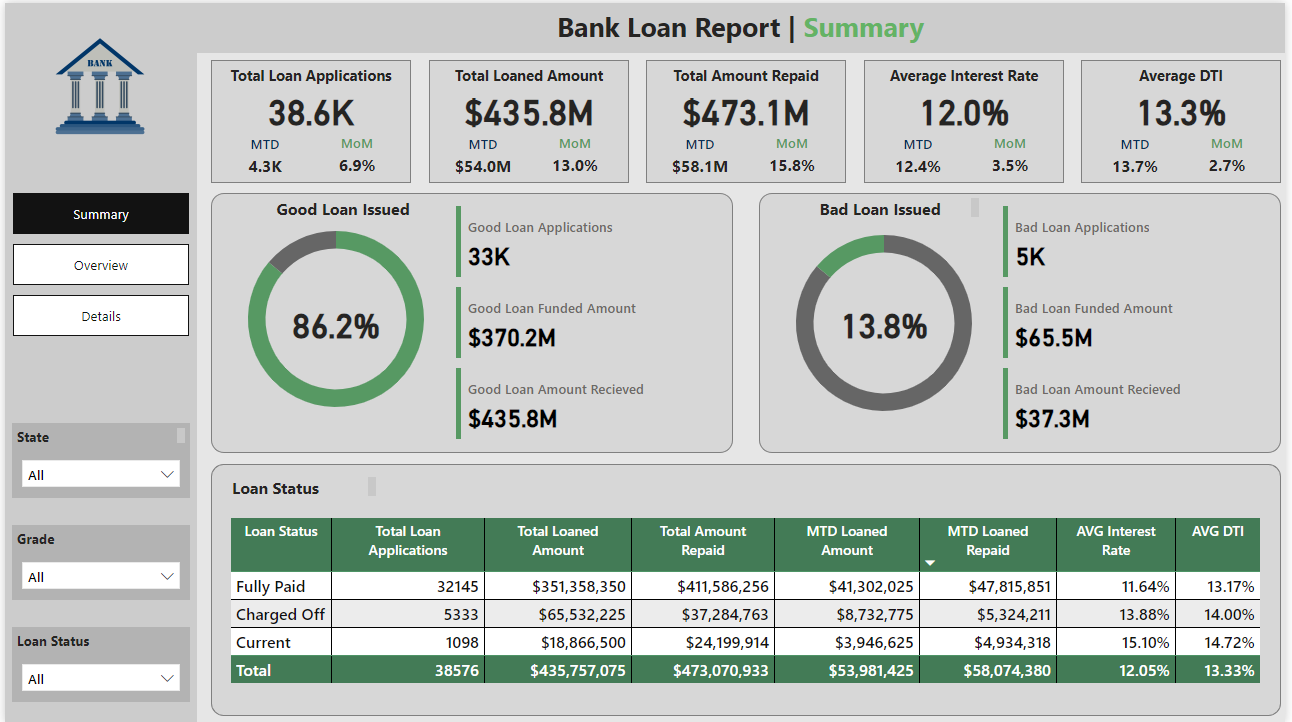

The page's visual inventory and layout, read from the dashboard file:
{"tool":"powerbi","page":{"name":"Summary","canvas":[1280,720],"ordinal":0},"visuals":[{"type":"shape","box":[0,50,192,670],"z":0},{"type":"shape","box":[206,57,200,123],"z":0,"group":"g1"},{"type":"shape","box":[423.5,57,200,123],"z":0,"group":"g2"},{"type":"shape","box":[641,57,200,123],"z":0,"group":"g4"},{"type":"shape","box":[858.5,57,200,123],"z":0,"group":"g3"},{"type":"shape","box":[1076,57,200,123],"z":0,"group":"g5"},{"type":"card","fields":{"Values":["bank_loan_data.Total Loan Applications"]},"box":[220,83,172,48],"z":1000,"group":"g1"},{"type":"card","fields":{"Values":["bank_loan_data.Total Loaned Amount"]},"box":[437.5,83,172,48],"z":1000,"group":"g2"},{"type":"card","fields":{"Values":["bank_loan_data.Total Amount Repaid"]},"box":[655,83,172,48],"z":1000,"group":"g4"},{"type":"card","fields":{"Values":["bank_loan_data.AVG Interest Rate"]},"box":[872.5,83,172,48],"z":1000,"group":"g3"},{"type":"card","fields":{"Values":["bank_loan_data.Average DTI"]},"box":[1090,83,172,48],"z":1000,"group":"g5"},{"type":"shape","box":[206,190,522,260],"z":1000},{"type":"shape","box":[0,0,1280,50],"z":2000},{"type":"textbox","box":[206,57,200,37],"z":2000,"group":"g1"},{"type":"textbox","box":[423.5,57,200,37],"z":2000,"group":"g2"},{"type":"textbox","box":[641,57,200,37],"z":2000,"group":"g4"},{"type":"textbox","box":[858.5,57,200,37],"z":2000,"group":"g3"},{"type":"textbox","box":[1076,57,200,37],"z":2000,"group":"g5"},{"type":"card","title":"MTD","fields":{"Values":["bank_loan_data.MTD Loan Applications"]},"box":[220,132,80,48],"z":3000,"group":"g1"},{"type":"card","title":"MTD","fields":{"Values":["bank_loan_data.MTD Loaned Amount"]},"box":[437.5,132,80,48],"z":3000,"group":"g2"},{"type":"card","title":"MTD","fields":{"Values":["bank_loan_data.MTD Loaned Repaid"]},"box":[655,132,80,48],"z":3000,"group":"g4"},{"type":"card","title":"MTD","fields":{"Values":["bank_loan_data.MTD AVG Interest Rate"]},"box":[872.5,132,80,48],"z":3000,"group":"g3"},{"type":"card","title":"MTD","fields":{"Values":["bank_loan_data.MTD AVG DTI"]},"box":[1090,132,80,48],"z":3000,"group":"g5"},{"type":"textbox","box":[238.3,189.7,199.4,37.9],"z":3000},{"type":"card","title":"MoM","fields":{"Values":["bank_loan_data.MoM Loan Application"]},"box":[312,131,80,48],"z":4000,"group":"g1"},{"type":"card","title":"MoM","fields":{"Values":["bank_loan_data.MoM Loaned Amount"]},"box":[529.5,131,80,48],"z":4000,"group":"g2"},{"type":"card","title":"MoM","fields":{"Values":["bank_loan_data.MoM Amount Repaid"]},"box":[747,131,80,48],"z":4000,"group":"g4"},{"type":"card","title":"MoM","fields":{"Values":["bank_loan_data.MoM Avg Interest Rate"]},"box":[964.5,131,80,48],"z":4000,"group":"g3"},{"type":"card","title":"MoM","fields":{"Values":["bank_loan_data.MoM Avg DTI"]},"box":[1182,131,80,48],"z":4000,"group":"g5"},{"type":"donutChart","fields":{"Y":["bank_loan_data.Total Loan Applications"],"Category":["bank_loan_data.Good vs Bad Loan"]},"box":[206,201,250,230],"z":4000},{"type":"card","fields":{"Values":["bank_loan_data.Good Loan %"]},"box":[245,296,172,48],"z":5000},{"type":"textbox","box":[547,0,387,51],"z":6000},{"type":"group","id":"g1","title":"Group 1","box":[206,57,200,123],"z":7000},{"type":"group","id":"g2","title":"Group 1","box":[423.5,57,200,123],"z":8000},{"type":"group","id":"g3","title":"Group 1","box":[858.5,57,200,123],"z":9000},{"type":"group","id":"g4","title":"Group 1","box":[641,57,200,123],"z":10000},{"type":"group","id":"g5","title":"Group 1","box":[1076,57,200,123],"z":11000},{"type":"shape","box":[754,190,522,260],"z":12000},{"type":"cardVisual","fields":{"Data":["bank_loan_data.Good Loan Applications","bank_loan_data.Good Loan Funded Amount","bank_loan_data.Good Loan Amount Recieved"]},"box":[446,198,274,244],"z":13000},{"type":"donutChart","fields":{"Y":["bank_loan_data.Total Loan Applications"],"Category":["bank_loan_data.Good vs Bad Loan"]},"box":[754,205,250,230],"z":14000},{"type":"textbox","box":[779,190,200,30],"z":15000},{"type":"card","fields":{"Values":["bank_loan_data.Bad Loan %"]},"box":[793,296,172,48],"z":16000},{"type":"cardVisual","fields":{"Data":["bank_loan_data.Bad Loan Applications","bank_loan_data.Bad Loan Funded Amount","bank_loan_data.Bad Loan Amount Recieved"]},"box":[993,198,274,244],"z":17000},{"type":"shape","box":[206,461,1070,252],"z":18000},{"type":"tableEx","fields":{"Values":["bank_loan_data.loan_status","bank_loan_data.Total Loan Applications","bank_loan_data.Total Loaned Amount","bank_loan_data.Total Amount Repaid","bank_loan_data.MTD Loaned Amount","bank_loan_data.MTD Loaned Repaid","bank_loan_data.AVG Interest Rate","bank_loan_data.Average DTI"]},"box":[220,510,1042,203],"z":19000},{"type":"textbox","box":[221.8,468.8,154.7,30.2],"z":20000},{"type":"group","id":"g6","title":"Group 2","box":[6.8,419.6,178,75.1],"z":21000},{"type":"slicer","fields":{"Values":["bank_loan_data.address_state"]},"box":[6.8,446.7,178,48],"z":21000,"group":"g6"},{"type":"slicer","fields":{"Values":["bank_loan_data.grade"]},"box":[6.8,549.2,178,48],"z":21000,"group":"g7"},{"type":"slicer","fields":{"Values":["bank_loan_data.Good vs Bad Loan"]},"box":[6.8,651.7,178,48],"z":21000,"group":"g8"},{"type":"textbox","box":[6.8,419.6,178,27.2],"z":22000,"group":"g6"},{"type":"textbox","box":[6.6,521.8,178,27.2],"z":22000,"group":"g10"},{"type":"group","id":"g7","title":"Group 2","box":[6.8,549.2,178,48],"z":22000,"group":"g10"},{"type":"textbox","box":[6.6,624.4,178,27.2],"z":22000,"group":"g9"},{"type":"group","id":"g8","title":"Group 2","box":[6.8,651.7,178,48],"z":23000,"group":"g9"},{"type":"group","id":"g9","title":"Group 3","box":[6.6,624.4,178.2,75.3],"z":23001},{"type":"group","id":"g10","title":"Group 4","box":[6.6,521.8,178.2,75.4],"z":23002},{"type":"pageNavigator","box":[7.8,189.7,176,144.9],"z":23003},{"type":"image","box":[26.3,11.7,138.1,141],"z":23004}]}

Visuals, with their boxes in screenshot pixels (x1, y1, x2, y2), scaled from the page's 1280x720 canvas onto the 1292x722 screenshot:
shape: [x1=0, y1=50, x2=194, y2=721]
shape: [x1=208, y1=57, x2=410, y2=180]
shape: [x1=427, y1=57, x2=629, y2=180]
shape: [x1=647, y1=57, x2=849, y2=180]
shape: [x1=867, y1=57, x2=1068, y2=180]
shape: [x1=1086, y1=57, x2=1288, y2=180]
card - bank_loan_data.Total Loan Applications: [x1=222, y1=83, x2=396, y2=131]
card - bank_loan_data.Total Loaned Amount: [x1=442, y1=83, x2=615, y2=131]
card - bank_loan_data.Total Amount Repaid: [x1=661, y1=83, x2=835, y2=131]
card - bank_loan_data.AVG Interest Rate: [x1=881, y1=83, x2=1054, y2=131]
card - bank_loan_data.Average DTI: [x1=1100, y1=83, x2=1274, y2=131]
shape: [x1=208, y1=191, x2=735, y2=451]
shape: [x1=0, y1=0, x2=1291, y2=50]
textbox: [x1=208, y1=57, x2=410, y2=94]
textbox: [x1=427, y1=57, x2=629, y2=94]
textbox: [x1=647, y1=57, x2=849, y2=94]
textbox: [x1=867, y1=57, x2=1068, y2=94]
textbox: [x1=1086, y1=57, x2=1288, y2=94]
"MTD" card: [x1=222, y1=132, x2=303, y2=180]
"MTD" card: [x1=442, y1=132, x2=522, y2=180]
"MTD" card: [x1=661, y1=132, x2=742, y2=180]
"MTD" card: [x1=881, y1=132, x2=961, y2=180]
"MTD" card: [x1=1100, y1=132, x2=1181, y2=180]
textbox: [x1=241, y1=190, x2=442, y2=228]
"MoM" card: [x1=315, y1=131, x2=396, y2=179]
"MoM" card: [x1=534, y1=131, x2=615, y2=179]
"MoM" card: [x1=754, y1=131, x2=835, y2=179]
"MoM" card: [x1=974, y1=131, x2=1054, y2=179]
"MoM" card: [x1=1193, y1=131, x2=1274, y2=179]
donutChart - bank_loan_data.Total Loan Applications x bank_loan_data.Good vs Bad Loan: [x1=208, y1=202, x2=460, y2=432]
card - bank_loan_data.Good Loan %: [x1=247, y1=297, x2=421, y2=345]
textbox: [x1=552, y1=0, x2=943, y2=51]
"Group 1" group: [x1=208, y1=57, x2=410, y2=180]
"Group 1" group: [x1=427, y1=57, x2=629, y2=180]
"Group 1" group: [x1=867, y1=57, x2=1068, y2=180]
"Group 1" group: [x1=647, y1=57, x2=849, y2=180]
"Group 1" group: [x1=1086, y1=57, x2=1288, y2=180]
shape: [x1=761, y1=191, x2=1288, y2=451]
cardVisual - bank_loan_data.Good Loan Applications x bank_loan_data.Good Loan Funded Amount: [x1=450, y1=199, x2=727, y2=443]
donutChart - bank_loan_data.Total Loan Applications x bank_loan_data.Good vs Bad Loan: [x1=761, y1=206, x2=1013, y2=436]
textbox: [x1=786, y1=191, x2=988, y2=221]
card - bank_loan_data.Bad Loan %: [x1=800, y1=297, x2=974, y2=345]
cardVisual - bank_loan_data.Bad Loan Applications x bank_loan_data.Bad Loan Funded Amount: [x1=1002, y1=199, x2=1279, y2=443]
shape: [x1=208, y1=462, x2=1288, y2=715]
tableEx - bank_loan_data.loan_status x bank_loan_data.Total Loan Applications: [x1=222, y1=511, x2=1274, y2=715]
textbox: [x1=224, y1=470, x2=380, y2=500]
"Group 2" group: [x1=7, y1=421, x2=187, y2=496]
slicer - bank_loan_data.address_state: [x1=7, y1=448, x2=187, y2=496]
slicer - bank_loan_data.grade: [x1=7, y1=551, x2=187, y2=599]
slicer - bank_loan_data.Good vs Bad Loan: [x1=7, y1=654, x2=187, y2=702]
textbox: [x1=7, y1=421, x2=187, y2=448]
textbox: [x1=7, y1=523, x2=186, y2=551]
"Group 2" group: [x1=7, y1=551, x2=187, y2=599]
textbox: [x1=7, y1=626, x2=186, y2=653]
"Group 2" group: [x1=7, y1=654, x2=187, y2=702]
"Group 3" group: [x1=7, y1=626, x2=187, y2=702]
"Group 4" group: [x1=7, y1=523, x2=187, y2=599]
pageNavigator: [x1=8, y1=190, x2=186, y2=336]
image: [x1=27, y1=12, x2=166, y2=153]
